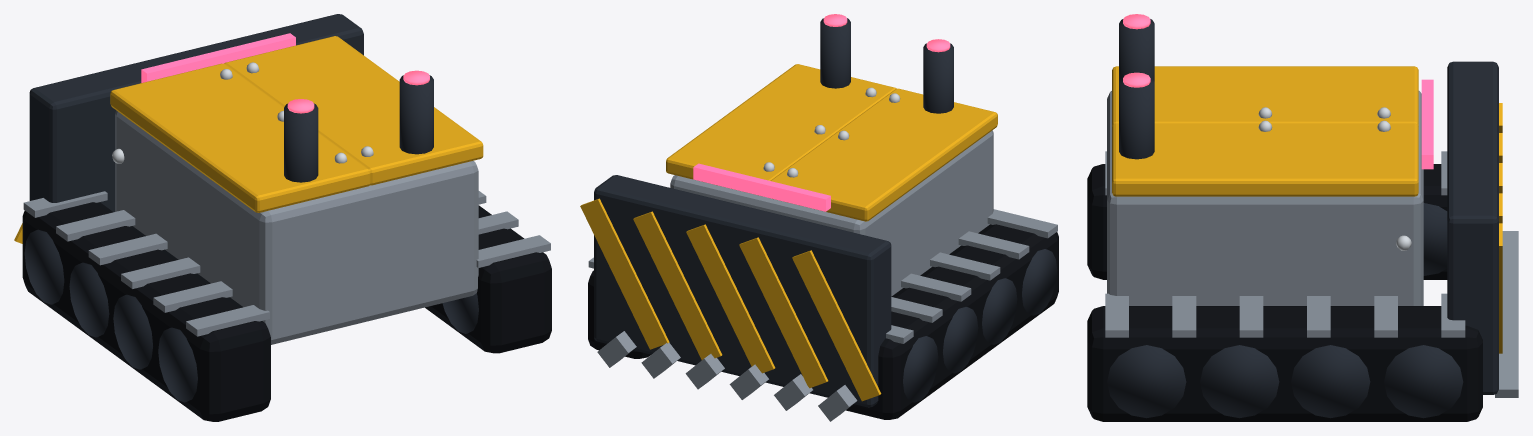
Rendered from Compactor.fbx.
3 views of the same model, side by side, from view 1: azimuth 30°, elevation 25°; view 2: azimuth 150°, elevation 25°; view 3: azimuth 270°, elevation 25° (orthographic). The views are drawn at different scales.
Parts seen in each view (by area): view 1: Steel_Hull0.001, Hazard_Plate0, Tread_Tread0.001, Hazard_Plate1, Metal_Jaw0, Tread_Tread1.001, Metal_Stack1, Metal_Stack0, Metal_Wheel2.001, Metal_Wheel1.001, Metal_Wheel0.001, Metal_Wheel3.001 (+10 smaller); view 2: Metal_Jaw0, Hazard_Plate0, Steel_Hull0.001, Hazard_Plate1, Tread_Tread0.001, Hazard_Stripe0.002, Hazard_Stripe1.001, Hazard_Stripe4, Hazard_Stripe3, Hazard_Stripe2.001, Eye_Eye0.001, Metal_Stack1 (+17 smaller); view 3: Steel_Hull0.001, Tread_Tread1.001, Hazard_Plate1, Hazard_Plate0, Metal_Jaw0, Metal_Wheel7.001, Metal_Wheel5.001, Metal_Wheel6.001, Metal_Wheel4.001, Tread_Tread0.001, Metal_Stack1, Metal_Stack0 (+15 smaller).
Boxes of the visible parts, x1=… form: Steel_Hull0.001: x1=115, y1=110, x2=478, y2=344; Hazard_Plate0: x1=110, y1=63, x2=370, y2=212; Tread_Tread0.001: x1=22, y1=202, x2=270, y2=421; Hazard_Plate1: x1=224, y1=36, x2=483, y2=185; Metal_Jaw0: x1=29, y1=14, x2=363, y2=211; Tread_Tread1.001: x1=425, y1=205, x2=551, y2=353; Metal_Stack1: x1=399, y1=75, x2=433, y2=154; Metal_Stack0: x1=284, y1=103, x2=318, y2=182; Metal_Wheel2.001: x1=69, y1=262, x2=109, y2=337; Metal_Wheel1.001: x1=113, y1=294, x2=152, y2=369; Metal_Wheel0.001: x1=158, y1=327, x2=197, y2=402; Metal_Wheel3.001: x1=24, y1=229, x2=64, y2=304; Metal_Jaw0: x1=594, y1=175, x2=891, y2=407; Hazard_Plate0: x1=770, y1=88, x2=997, y2=221; Steel_Hull0.001: x1=670, y1=130, x2=993, y2=296; Hazard_Plate1: x1=666, y1=64, x2=896, y2=195; Tread_Tread0.001: x1=846, y1=224, x2=1058, y2=419; Hazard_Stripe0.002: x1=792, y1=250, x2=881, y2=401; Hazard_Stripe1.001: x1=739, y1=237, x2=828, y2=388; Hazard_Stripe4: x1=580, y1=198, x2=669, y2=349; Hazard_Stripe3: x1=633, y1=211, x2=722, y2=359; Hazard_Stripe2.001: x1=686, y1=224, x2=775, y2=373; Eye_Eye0.001: x1=693, y1=163, x2=830, y2=211; Metal_Stack1: x1=820, y1=18, x2=850, y2=88; Steel_Hull0.001: x1=1107, y1=91, x2=1423, y2=305; Tread_Tread1.001: x1=1087, y1=306, x2=1482, y2=421; Hazard_Plate1: x1=1112, y1=123, x2=1418, y2=196; Hazard_Plate0: x1=1112, y1=66, x2=1418, y2=126; Metal_Jaw0: x1=1447, y1=61, x2=1498, y2=394; Metal_Wheel7.001: x1=1384, y1=345, x2=1463, y2=418; Metal_Wheel5.001: x1=1200, y1=345, x2=1279, y2=418; Metal_Wheel6.001: x1=1291, y1=345, x2=1370, y2=418; Metal_Wheel4.001: x1=1107, y1=345, x2=1186, y2=418; Tread_Tread0.001: x1=1087, y1=164, x2=1447, y2=279; Metal_Stack1: x1=1119, y1=77, x2=1154, y2=159; Metal_Stack0: x1=1119, y1=19, x2=1154, y2=81.
Bounding box in the file's own units: 2.14 × 2.18 × 1.62.
